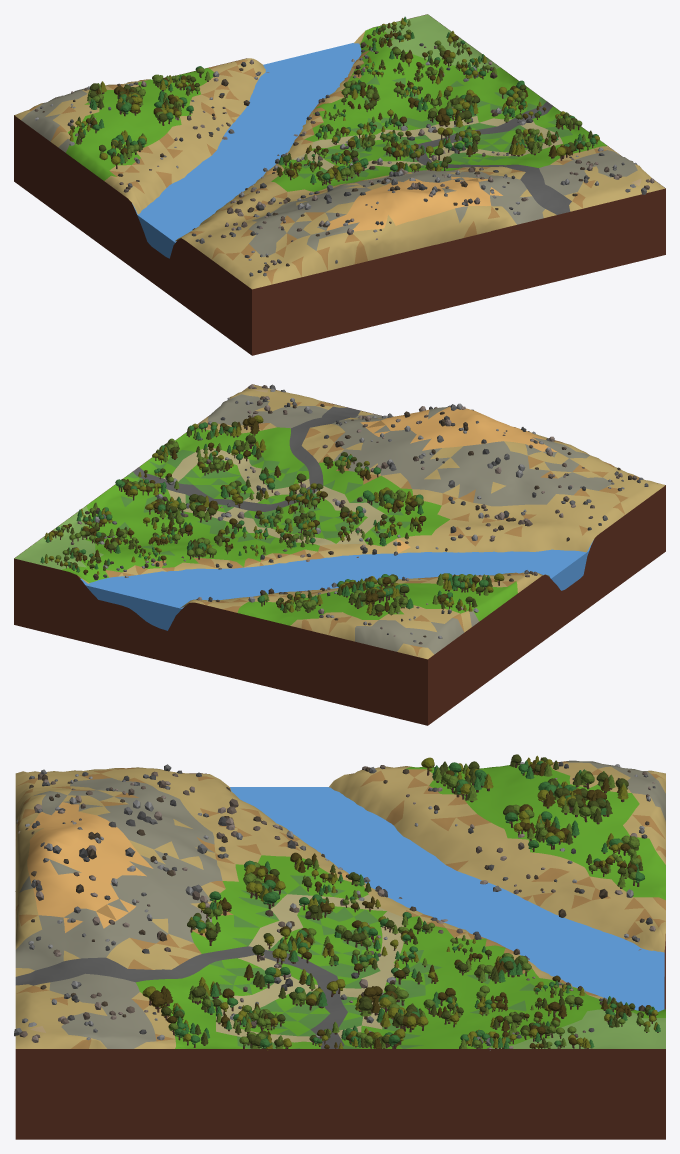
The model's file is obj_LifeStockMap.fbx.
3 renders of one model, top to bottom at view 1: azimuth 30°, elevation 25°; view 2: azimuth 150°, elevation 25°; view 3: azimuth 270°, elevation 25°, orthographic. The views are drawn at different scales.
Visible parts, largest first — view 1: Surface, Base; view 2: Surface, Base; view 3: Surface, Base.
Part boxes in pixels (left/top/right/bottom): Surface: left=14, top=14, right=665, bottom=289; Base: left=14, top=14, right=665, bottom=355; Surface: left=14, top=384, right=665, bottom=659; Base: left=14, top=384, right=665, bottom=725; Surface: left=15, top=760, right=665, bottom=1048; Base: left=15, top=773, right=665, bottom=1139.
Size of the model in its own units: 23943 by 6080 by 23882.
